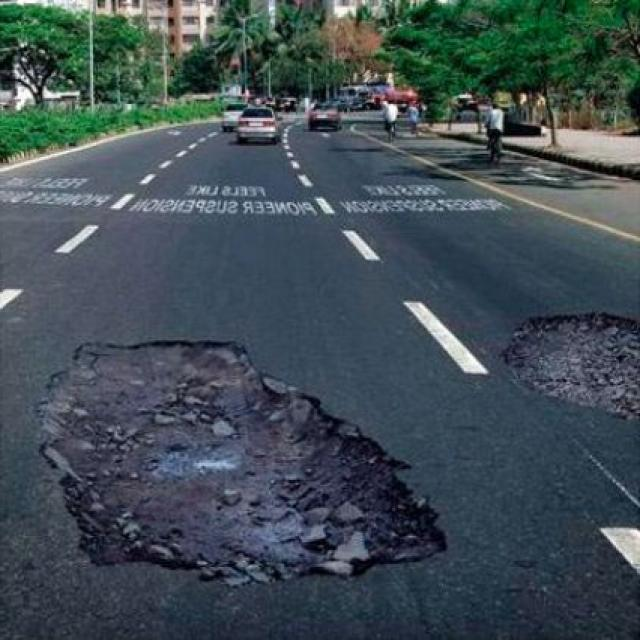pothole: (34, 331, 456, 586), (497, 308, 640, 420)
